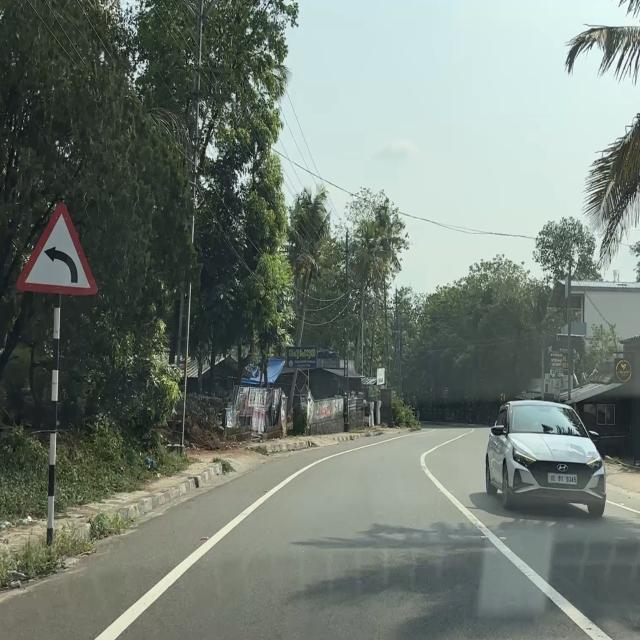LEFT_TURN_AHEAD: (14, 200, 100, 298)
